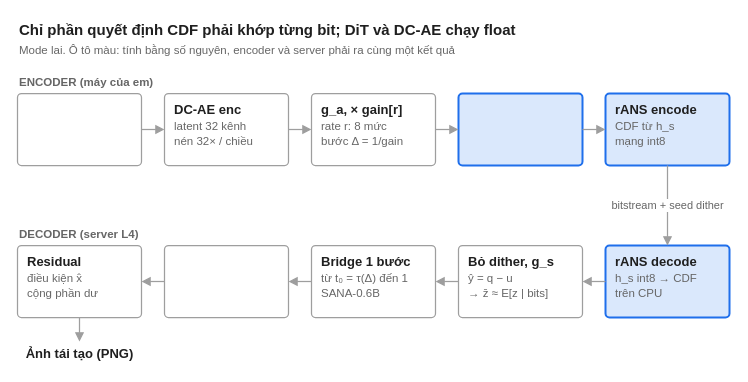
Image size: 748x382. Some labels were removed from this diagram. Here are the shapes that lost their labels. From the top down, the centre of each, then its label:
At [79,129]: "Ảnh x RGB, H × W".
At [520,129]: "Dither + round q = round(y + u) u chung, từ seed".
At [226,281]: "DC-AE decoder latent → ảnh x̂".
